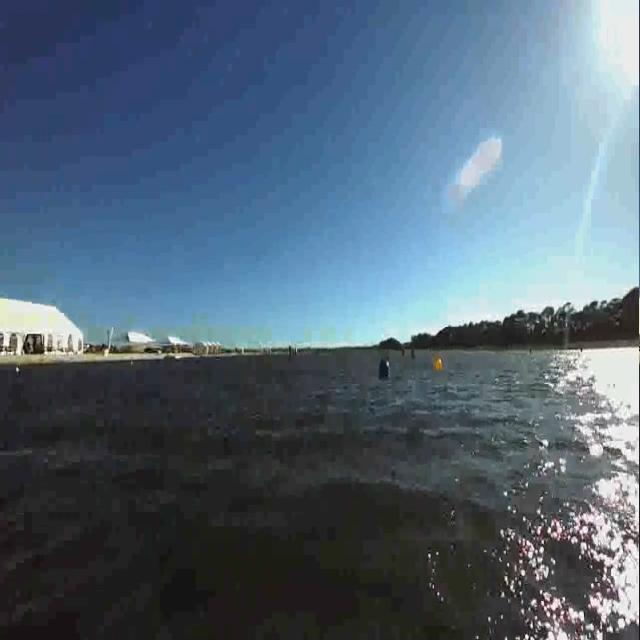blue-buoy: (377, 356, 392, 378)
yellow-buoy: (433, 356, 442, 372)
